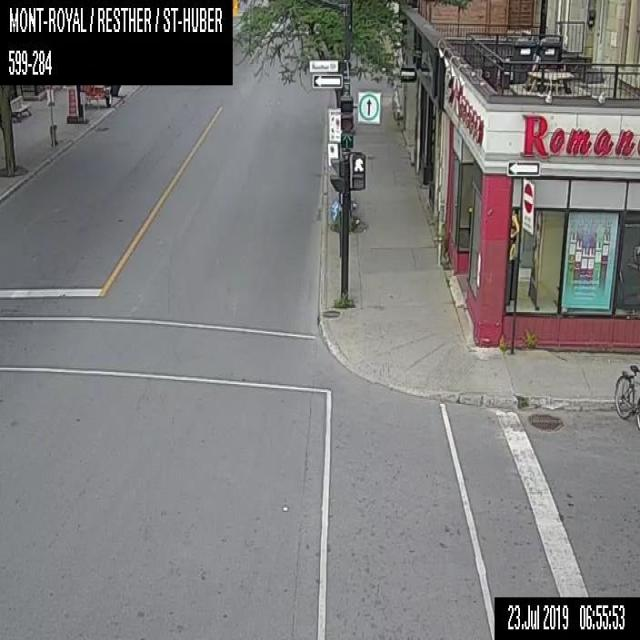construction: (68, 87, 75, 116)
